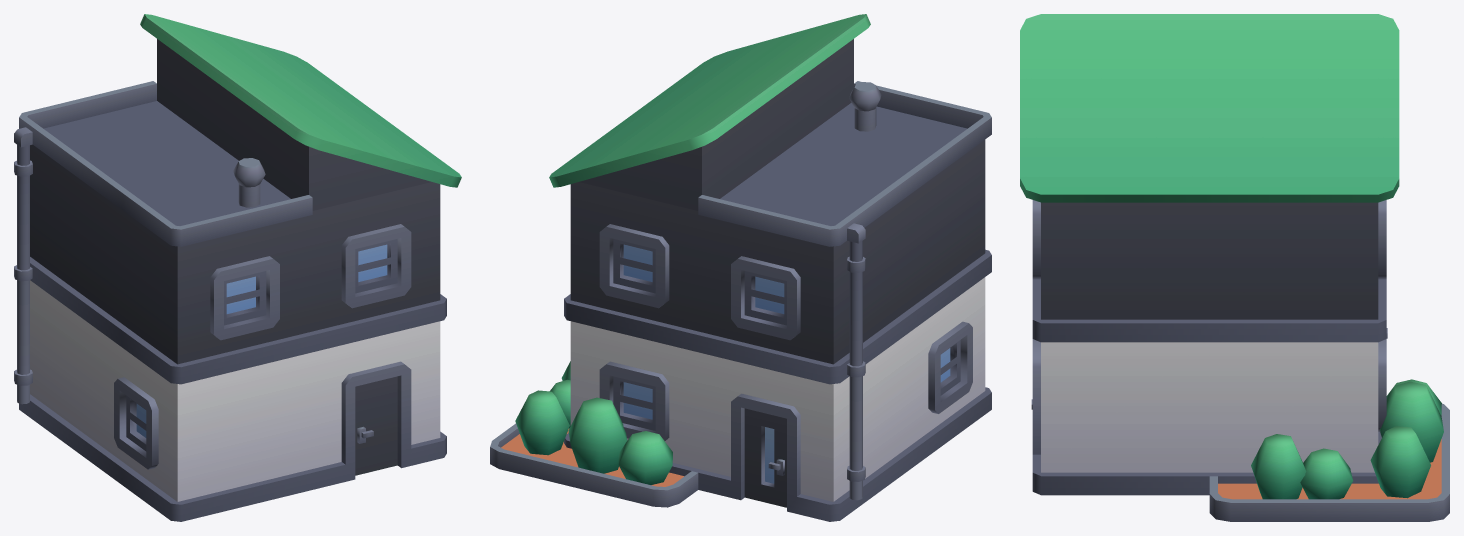
The model's file is k-city-kit-suburban-building-type-l.glb.
3 views of the same model, side by side, from view 1: azimuth 30°, elevation 25°; view 2: azimuth 150°, elevation 25°; view 3: azimuth 270°, elevation 25° (orthographic). The views are drawn at different scales.
Visible parts, largest first — view 1: building-type-l; view 2: building-type-l; view 3: building-type-l.
Part boxes in pixels (left/top/right/bottom): building-type-l: left=14, top=14, right=461, bottom=521; building-type-l: left=490, top=14, right=991, bottom=521; building-type-l: left=1020, top=14, right=1449, bottom=521.
Size of the model in its own units: 1.03 by 1.05 by 1.02.
Materials: 1 (1 with a texture image).
